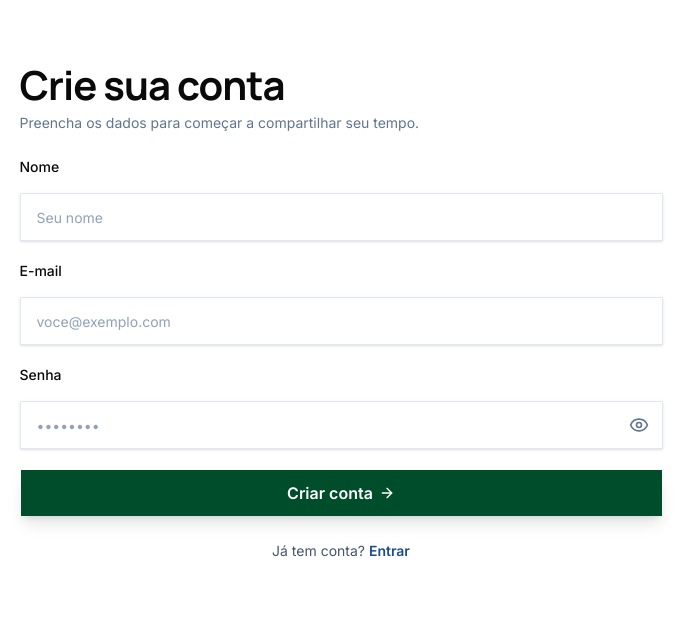
it: CreateUserFormCard › should show validation messages on empty submit
This screenshot has width=684, height=628.
Click the button "Criar conta". click: click(341, 493)
box: [20,469,662,517]
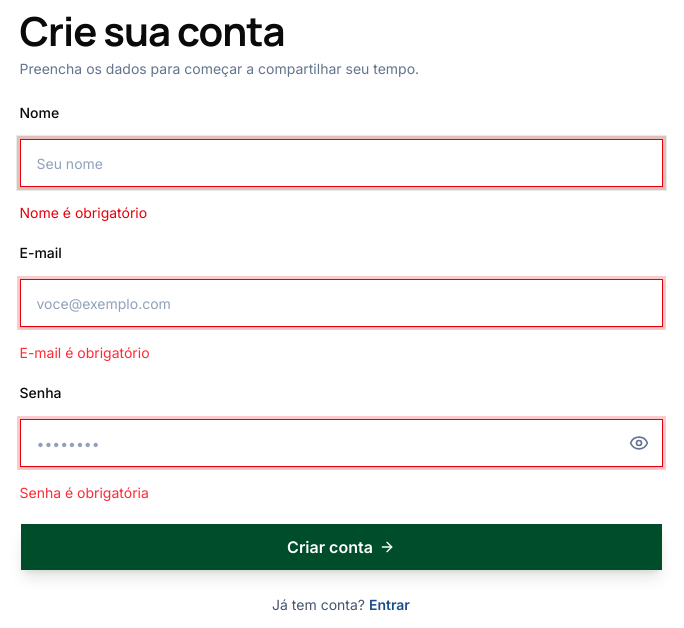
Check: the text "Nome é obrigatório" is shown, box [20,204,147,221]
Check: the text "E-mail é obrigatório" is shown, box [20,344,150,361]
Check: the text "Senha é obrigatória" is shown, box [20,484,149,501]
